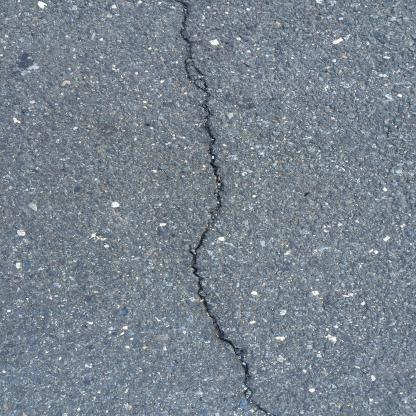Cracks: (166, 0, 275, 416)
